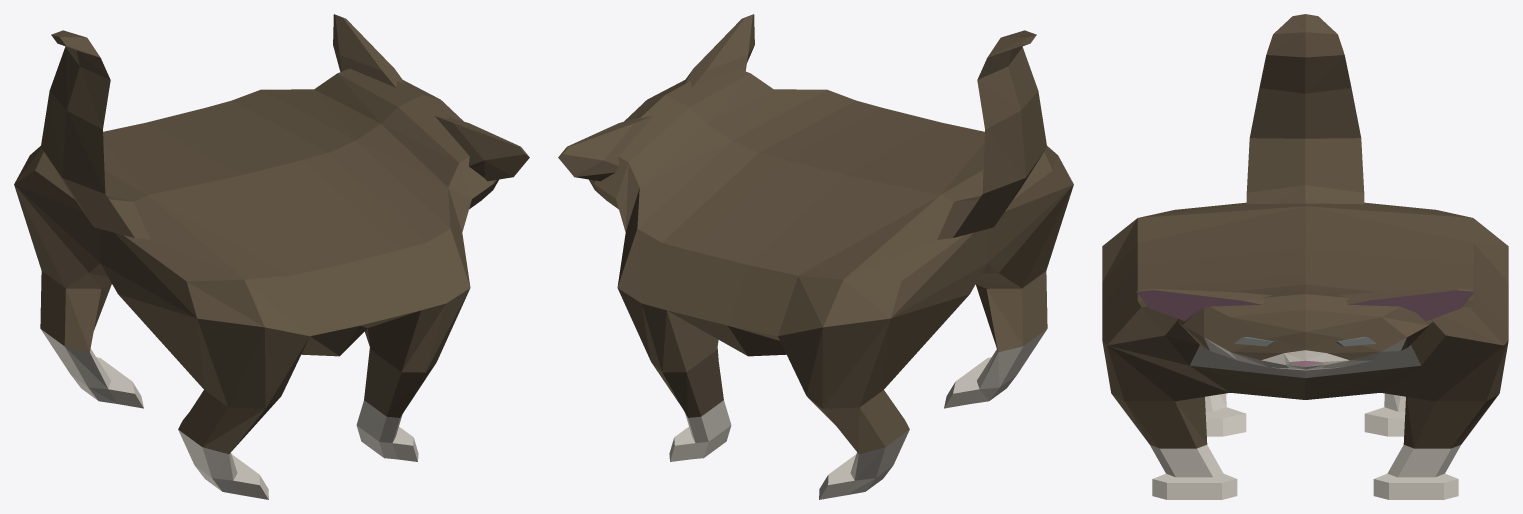
File: cat.glb
The picture shows the model from 3 angles, left to right: view 1: azimuth 30°, elevation 25°; view 2: azimuth 150°, elevation 25°; view 3: azimuth 270°, elevation 25°; orthographic projection. The views are drawn at different scales.
Bounding box in the file's own units: 1 × 1 × 1.
